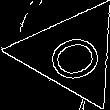O_NE: (35, 22, 107, 84)
